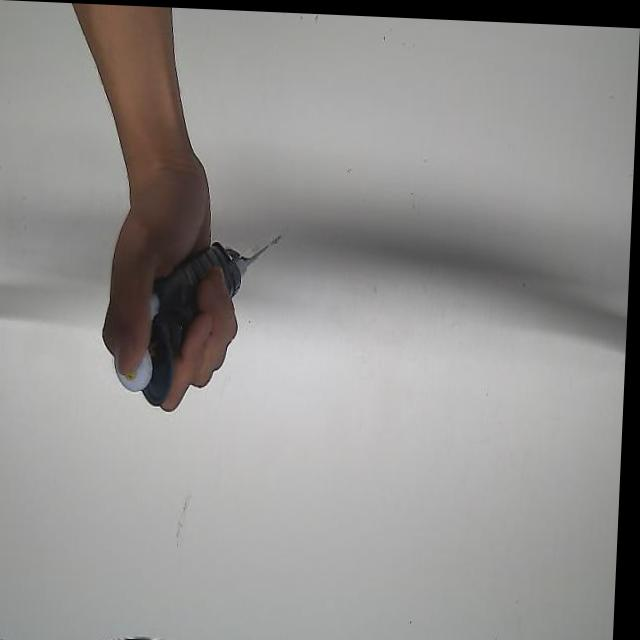Single Channel Pipettor: (112, 220, 293, 415)
